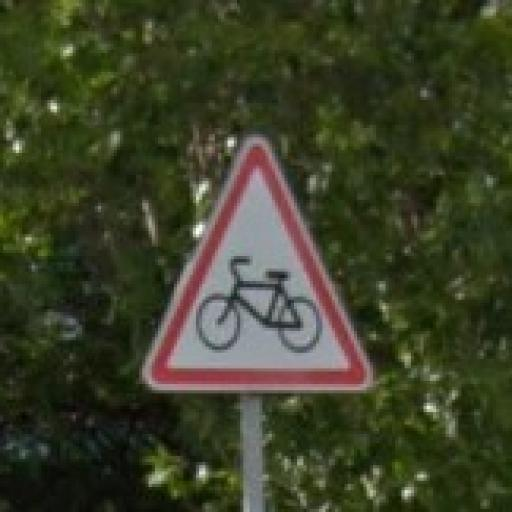traffic_sign: (140, 139, 374, 398)
